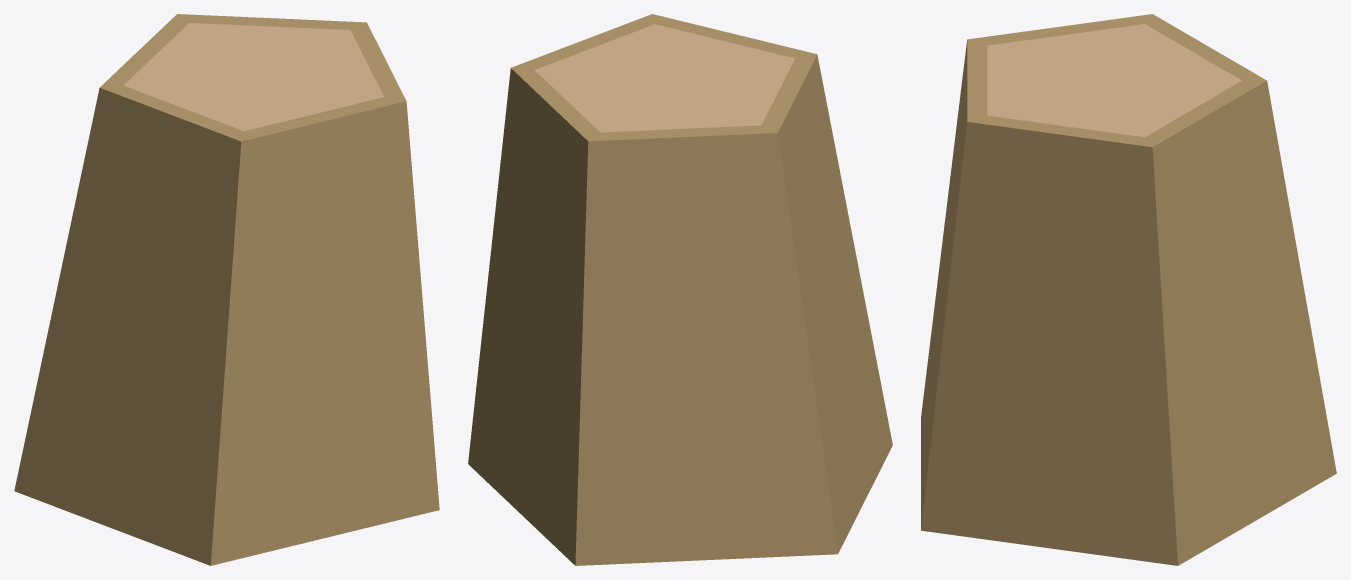
The model's file is Acacia_Stump_05.fbx.
3 views of the same model, side by side, from view 1: azimuth 30°, elevation 25°; view 2: azimuth 150°, elevation 25°; view 3: azimuth 270°, elevation 25° (orthographic). The views are drawn at different scales.
Visible parts, largest first — view 1: Acacia_Stump_05; view 2: Acacia_Stump_05; view 3: Acacia_Stump_05.
Boxes of the visible parts, bbox=[...] form: Acacia_Stump_05: bbox=[14, 14, 439, 565]; Acacia_Stump_05: bbox=[468, 14, 892, 565]; Acacia_Stump_05: bbox=[921, 14, 1336, 565].
Bounding box in the file's own units: 41.52 × 42.29 × 39.48.
